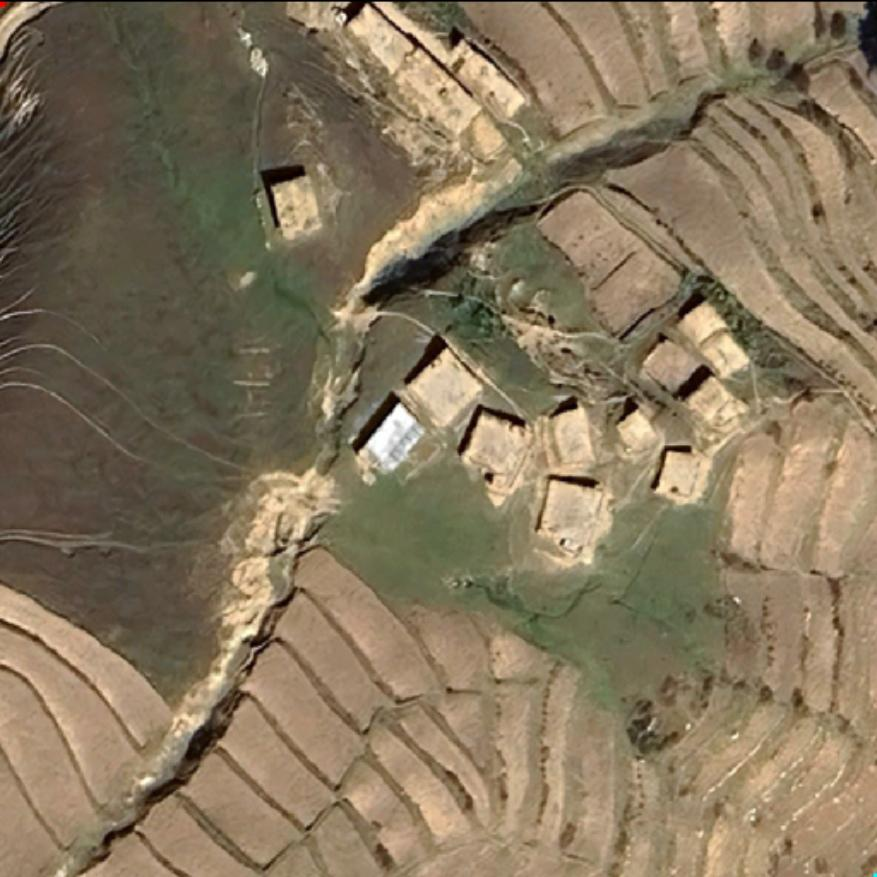Solarpanel: (358, 400, 432, 471)
